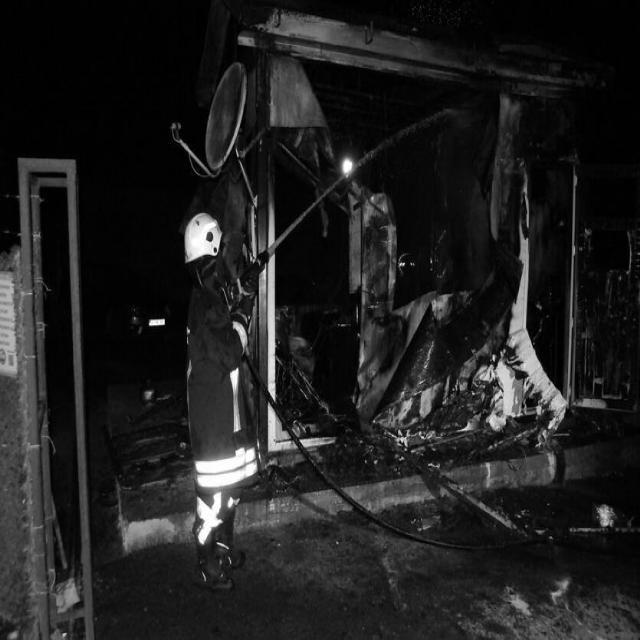safety_helmet: (182, 211, 224, 268)
